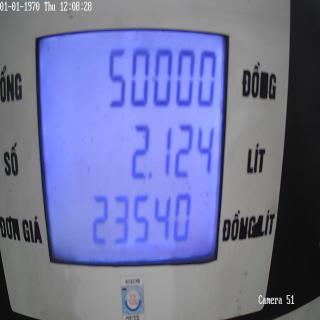screen: (32, 9, 233, 273)
